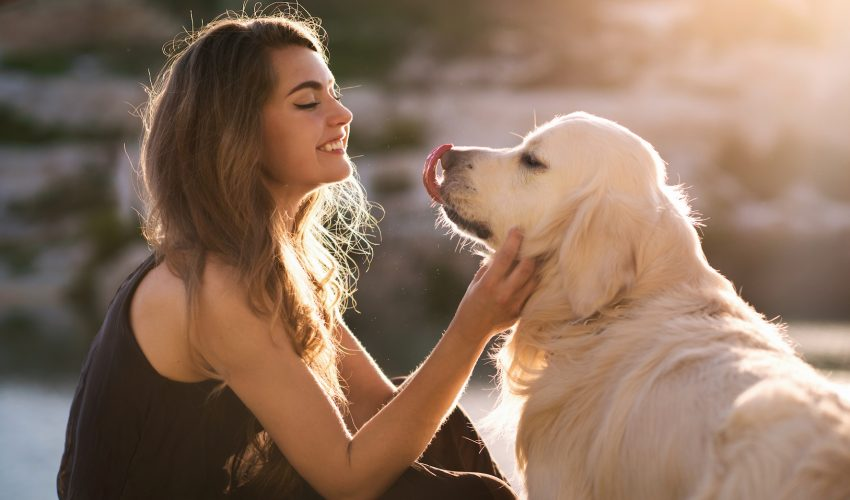person: (179, 22, 354, 188)
